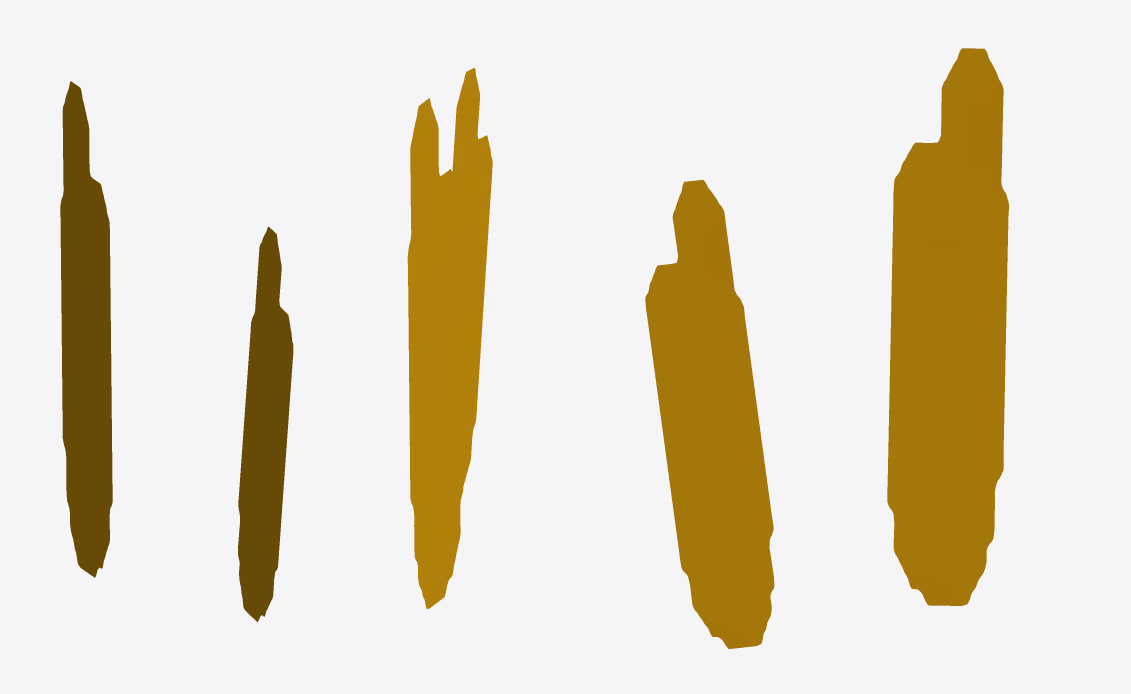
The model's file is pm-fire-torch-03.glb.
The picture shows the model from 3 angles, left to right: view 1: azimuth 30°, elevation 25°; view 2: azimuth 150°, elevation 25°; view 3: azimuth 270°, elevation 25°; orthographic projection. The views are drawn at different scales.
Parts seen in each view (by area): view 1: FireTorch03_Art; view 2: FireTorch03_Art; view 3: FireTorch03_Art.
Boxes of the visible parts, x1,y1,x2,y2 form: FireTorch03_Art: (60, 81, 293, 621); FireTorch03_Art: (407, 67, 492, 608); FireTorch03_Art: (645, 48, 1009, 648).
Bounding box in the file's own units: 0.0407 × 0.2714 × 0.2198.
Materials: 1 (1 with a texture image).
